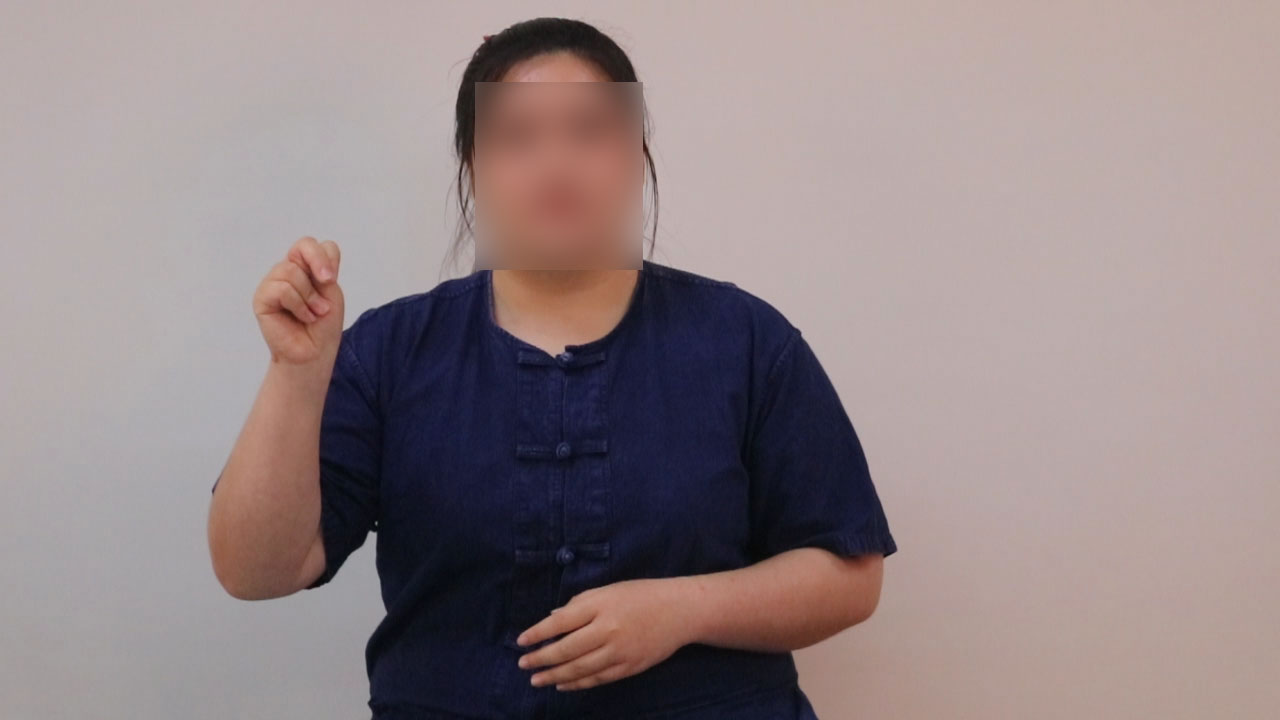nor: (246, 230, 355, 381)
